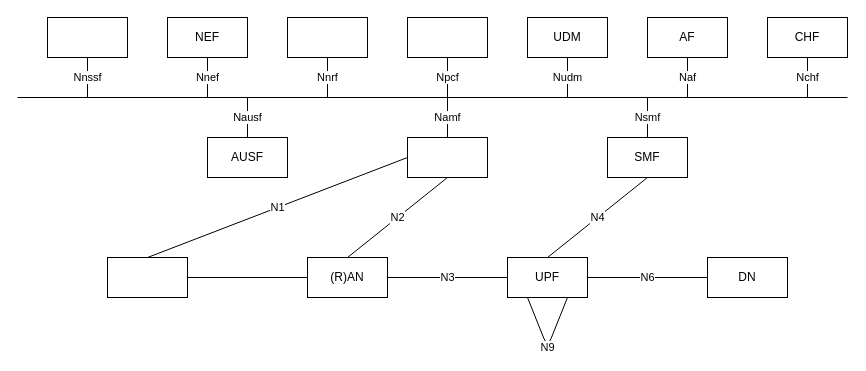
This 866x371 diagram has some shape labels left out. The shapes that lost their labels are listed below. From the top down, each one's box as (x1, y1, x2, y2) in pixels, then its label:
(46, 16, 128, 58): NSSF
(286, 16, 368, 58): NRF
(406, 16, 488, 58): PCF
(406, 136, 488, 178): AMF
(106, 256, 188, 298): UE
